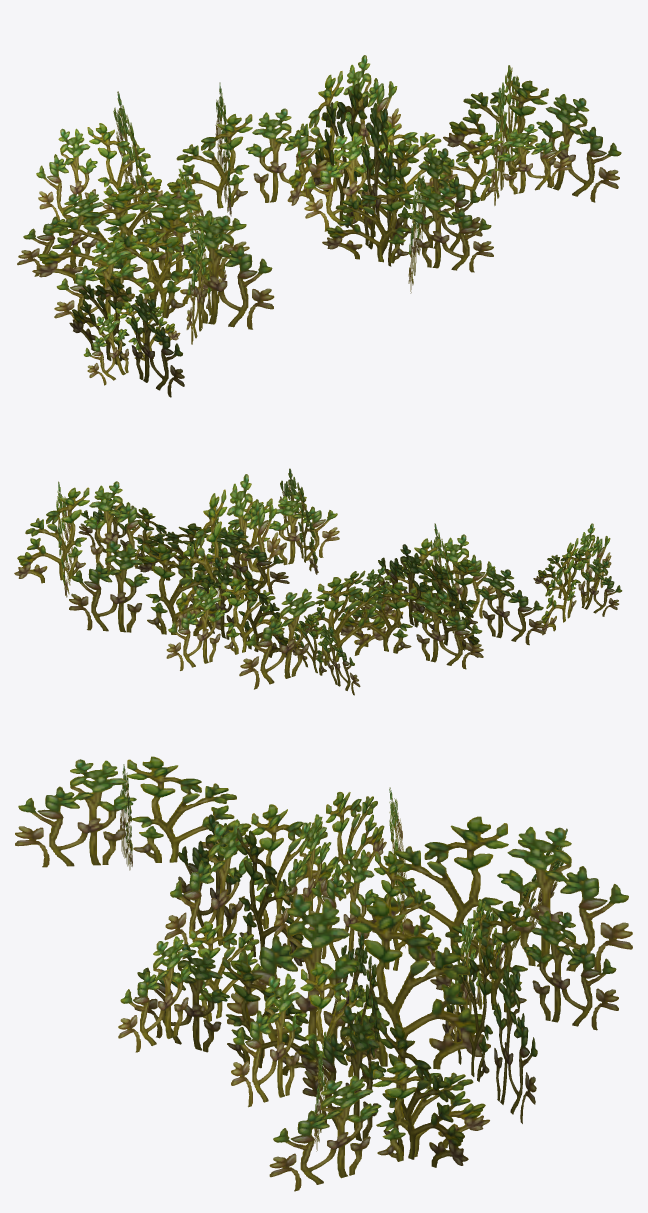
File: DN_grass04f.FBX
The picture shows the model from 3 angles, top to bottom: view 1: azimuth 30°, elevation 25°; view 2: azimuth 150°, elevation 25°; view 3: azimuth 270°, elevation 25°; orthographic projection. The views are drawn at different scales.
Parts seen in each view (by area): view 1: DN_grass04f; view 2: DN_grass04f; view 3: DN_grass04f.
Part boxes in pixels (x1,y1,x2,y2): DN_grass04f: (17, 55, 621, 397); DN_grass04f: (14, 468, 622, 695); DN_grass04f: (15, 756, 632, 1191).
Size of the model in its own units: 152 by 40.02 by 108.
